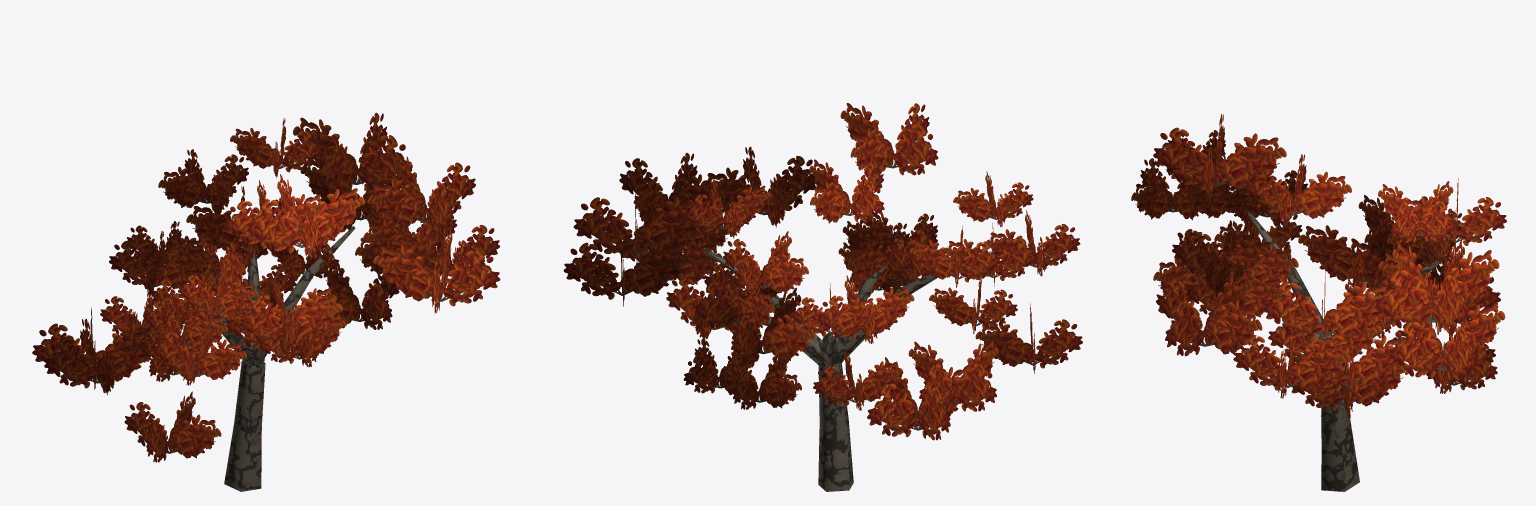
The model's file is maple1_maple_lod1.fbx.
The picture shows the model from 3 angles, left to right: view 1: azimuth 30°, elevation 25°; view 2: azimuth 150°, elevation 25°; view 3: azimuth 270°, elevation 25°; orthographic projection. The views are drawn at different scales.
Parts seen in each view (by area): view 1: maple1_maple_lod1; view 2: maple1_maple_lod1; view 3: maple1_maple_lod1.
Part boxes in pixels (x1=…): maple1_maple_lod1: x1=32, y1=112, x2=500, y2=491; maple1_maple_lod1: x1=563, y1=103, x2=1082, y2=491; maple1_maple_lod1: x1=1131, y1=114, x2=1506, y2=491.
Size of the model in its own units: 12.32 by 11.09 by 9.09.
Materials: 2 (2 with a texture image).
